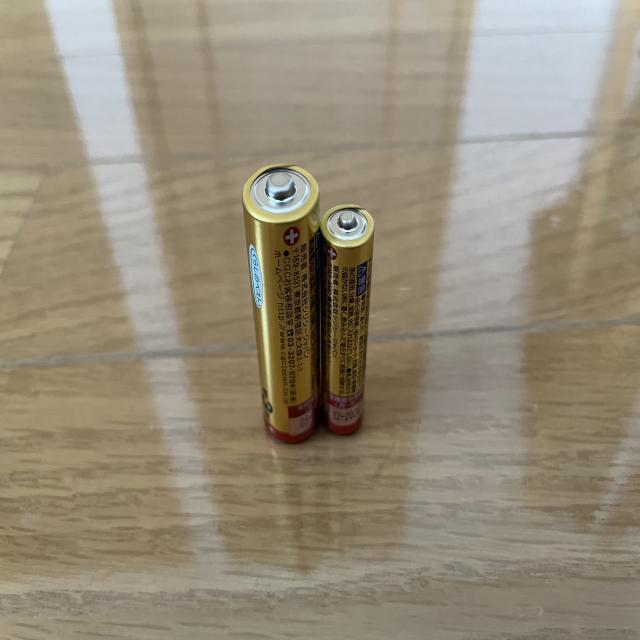battery: (240, 160, 327, 444), (314, 203, 380, 441)
